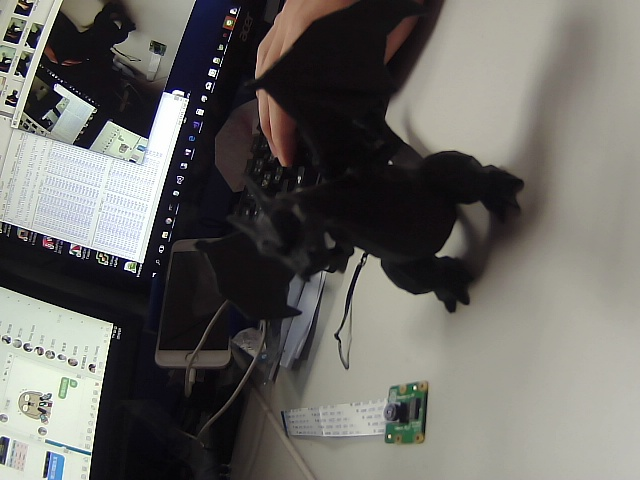charizard: (180, 1, 553, 350)
